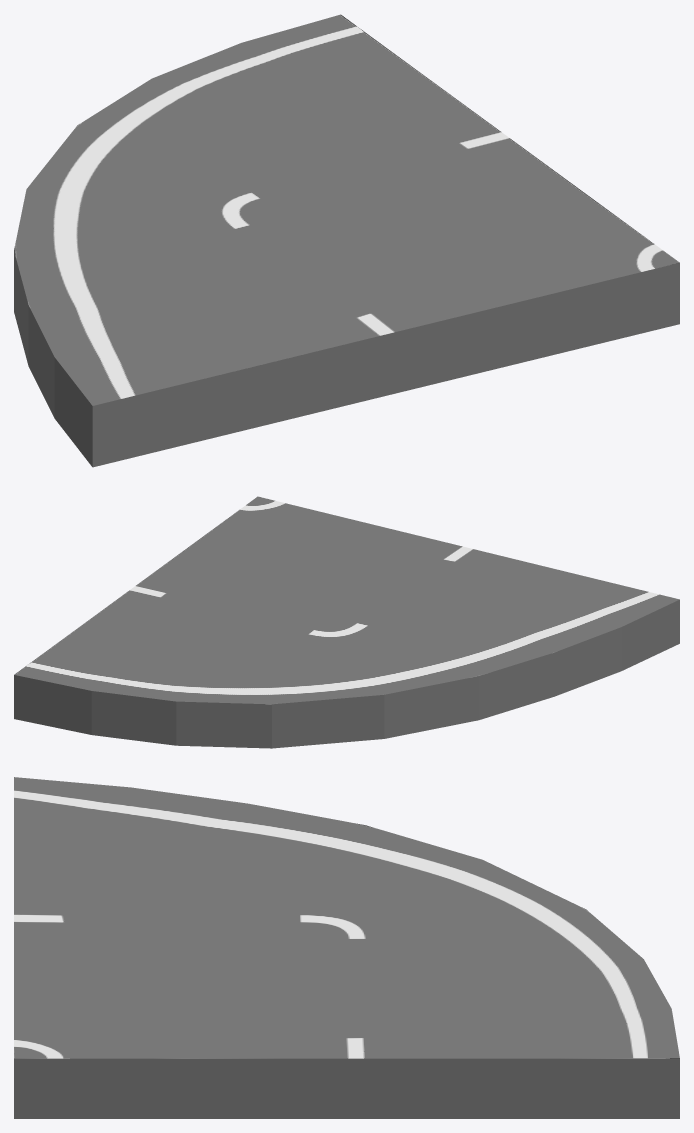
File: Build System Part 3.fbx
3 views of the same model, one above another, from view 1: azimuth 30°, elevation 25°; view 2: azimuth 150°, elevation 25°; view 3: azimuth 270°, elevation 25° (orthographic). The views are drawn at different scales.
Parts seen in each view (by area): view 1: Pista 2; view 2: Pista 2; view 3: Pista 2.
Part boxes in pixels (left/top/right/bottom): Pista 2: left=14, top=14, right=679, bottom=467; Pista 2: left=14, top=496, right=679, bottom=748; Pista 2: left=14, top=777, right=679, bottom=1118.
Size of the model in its own units: 100 by 10 by 100.
